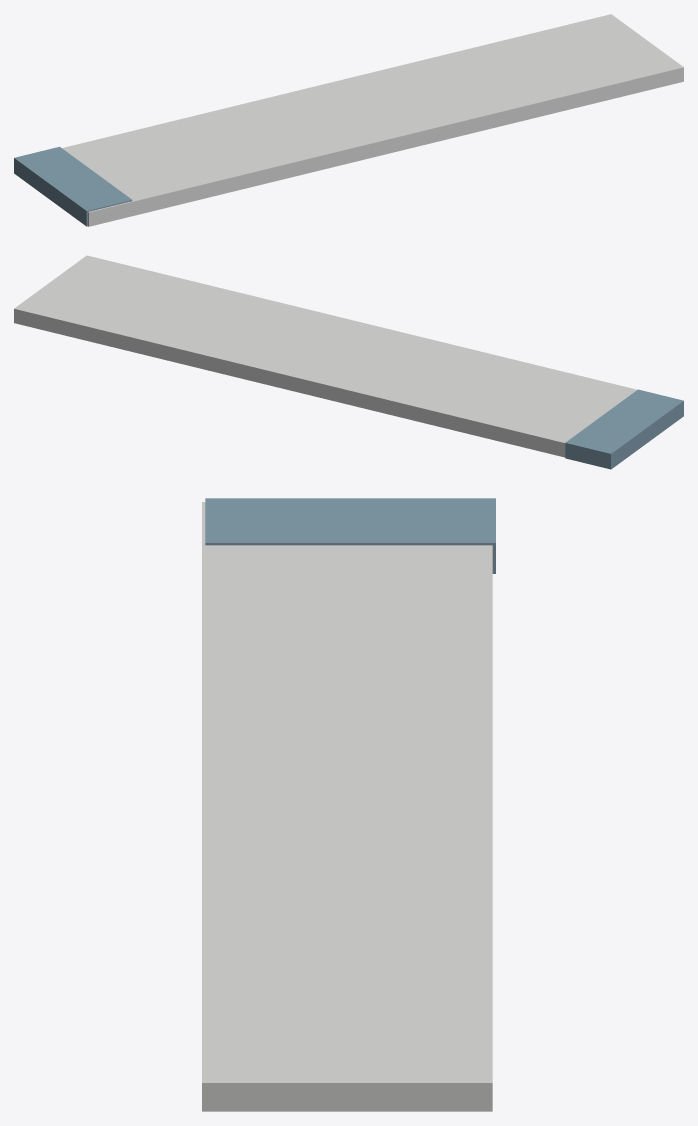
Rendered from road-car-showroom-lineup-number-plate-blank-9fd2c2db__15129.glb.
3 views of the same model, one above another, from view 1: azimuth 30°, elevation 25°; view 2: azimuth 150°, elevation 25°; view 3: azimuth 270°, elevation 25° (orthographic). The views are drawn at different scales.
Visible parts, largest first — view 1: number-plate-blank; view 2: number-plate-blank; view 3: number-plate-blank.
Part boxes in pixels (x1=…): number-plate-blank: x1=14, y1=14, x2=683, y2=226; number-plate-blank: x1=14, y1=255, x2=683, y2=469; number-plate-blank: x1=202, y1=498, x2=495, y2=1111.
Bounding box in the file's own units: 0.5212 × 0.013 × 0.1112.
